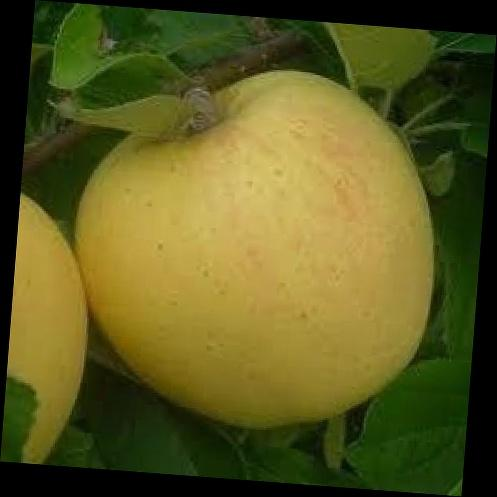green apple: (74, 64, 452, 436)
